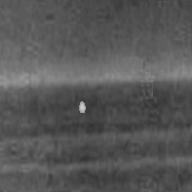Target: (78, 100, 87, 114)
